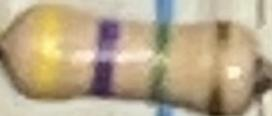Blue: (85, 16, 122, 97)
Green: (147, 20, 175, 99)
Side-Silver: (204, 21, 234, 116)
Yellow: (28, 4, 72, 98)
